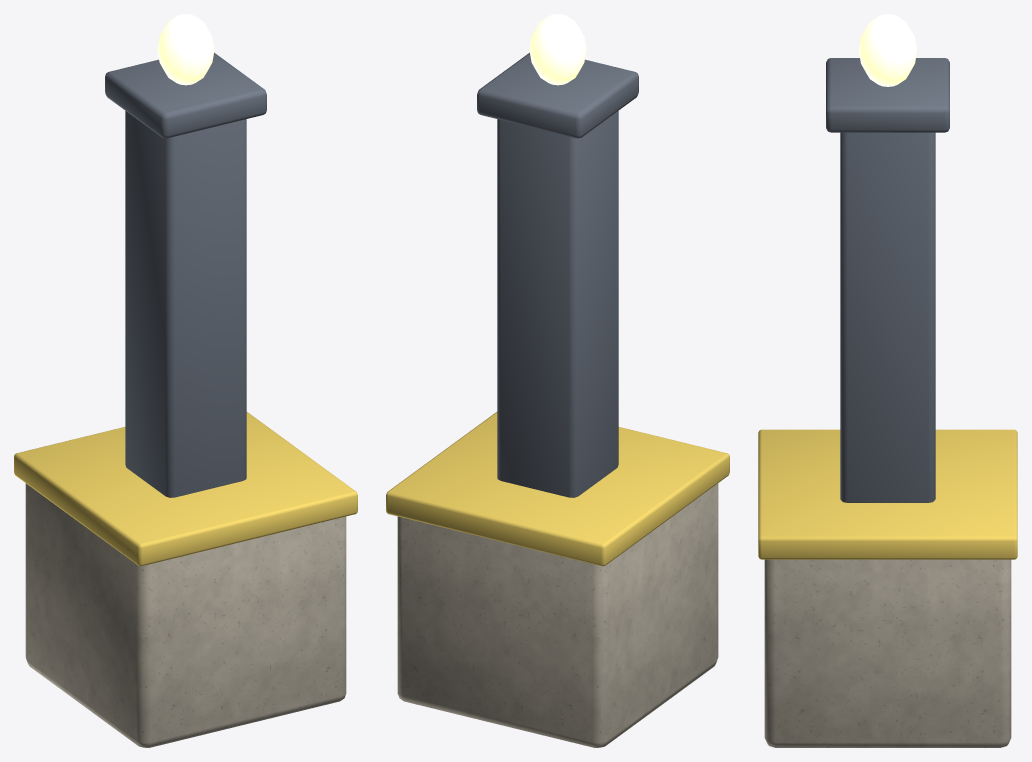
The model's file is arena_corner_tower.glb.
3 renders of one model, left to right at view 1: azimuth 30°, elevation 25°; view 2: azimuth 150°, elevation 25°; view 3: azimuth 270°, elevation 25°, orthographic. The views are drawn at different scales.
Visible parts, largest first — view 1: CornerBase, CornerColumn, CornerGoldTrim, CornerCap, CornerBeacon; view 2: CornerBase, CornerColumn, CornerGoldTrim, CornerCap, CornerBeacon; view 3: CornerBase, CornerColumn, CornerGoldTrim, CornerCap, CornerBeacon.
Boxes of the visible parts, box(x1,y1,x2,y2) form: CornerBase: box(25, 483, 346, 747); CornerColumn: box(125, 111, 246, 497); CornerGoldTrim: box(14, 412, 357, 566); CornerCap: box(105, 52, 266, 138); CornerBeacon: box(157, 14, 214, 85); CornerBase: box(397, 483, 718, 747); CornerColumn: box(497, 111, 618, 497); CornerGoldTrim: box(386, 412, 729, 566); CornerCap: box(477, 52, 638, 138); CornerBeacon: box(529, 14, 586, 85); CornerBase: box(764, 559, 1011, 747); CornerColumn: box(840, 132, 935, 502); CornerGoldTrim: box(758, 429, 1017, 559); CornerCap: box(826, 58, 949, 132); CornerBeacon: box(858, 14, 917, 86).
Size of the model in its own units: 1.42 by 4.13 by 1.42.
Materials: 4 (1 with a texture image).
